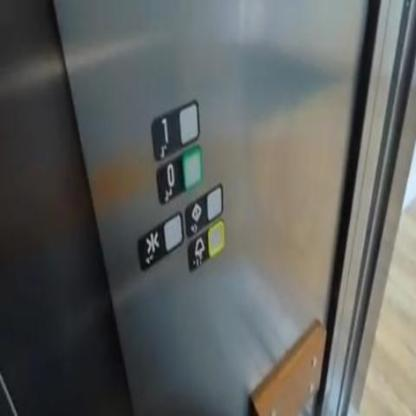0: (154, 143, 202, 207)
1: (149, 96, 200, 160)
alarm: (186, 218, 226, 271)
close: (136, 210, 186, 270)
open: (185, 180, 225, 236)
